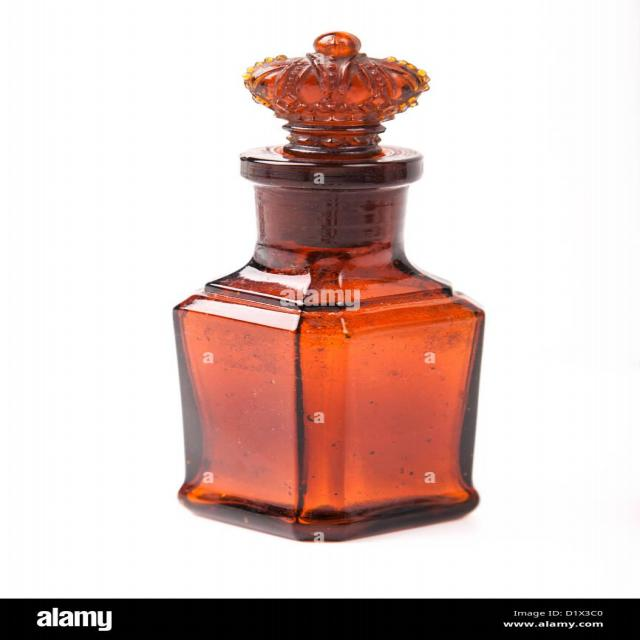non-organic waste: (138, 20, 514, 542)
